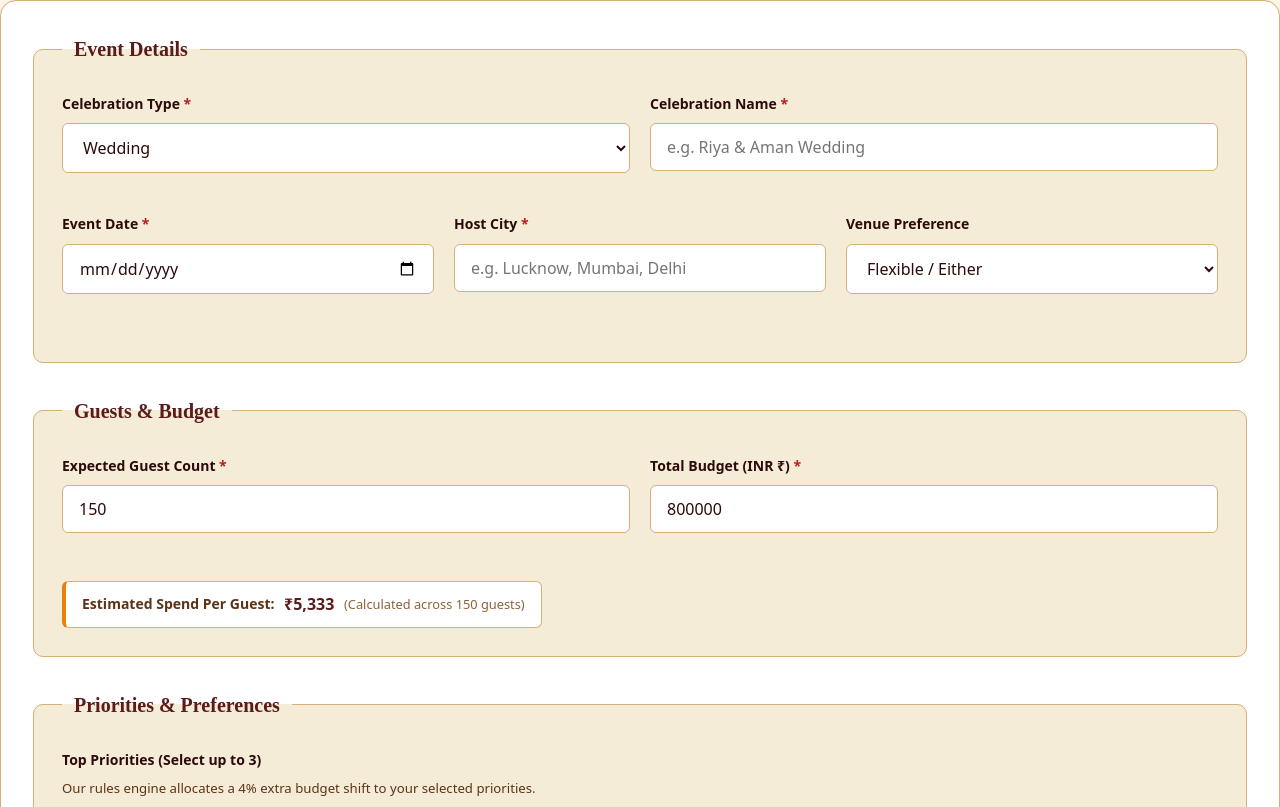
it: EventForm Component (EventForm.jsx) › shows error when event date is in the past
Type "2020-01-01" into the date field labelled "Event Date *" at [248, 269], box [62,244,434,294]
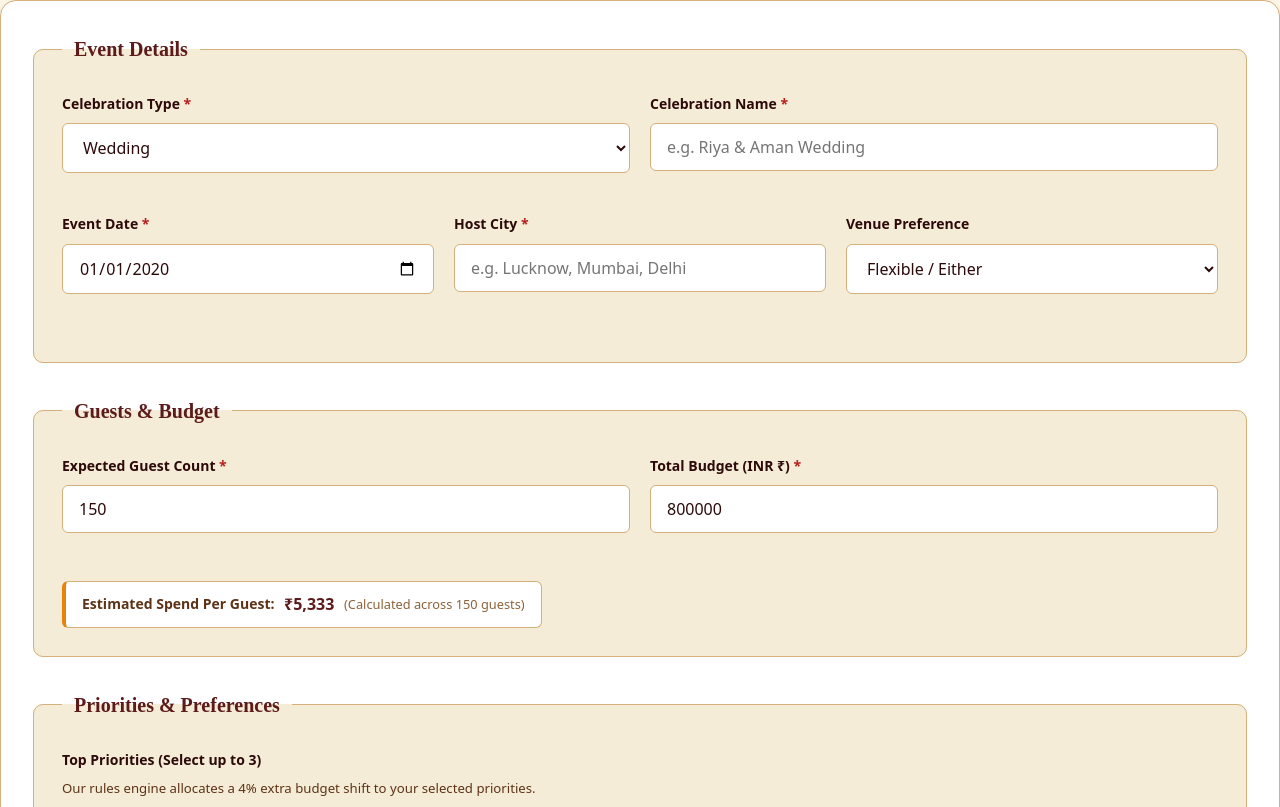
Leave the date field labelled "Event Date *", box [62,244,434,294]
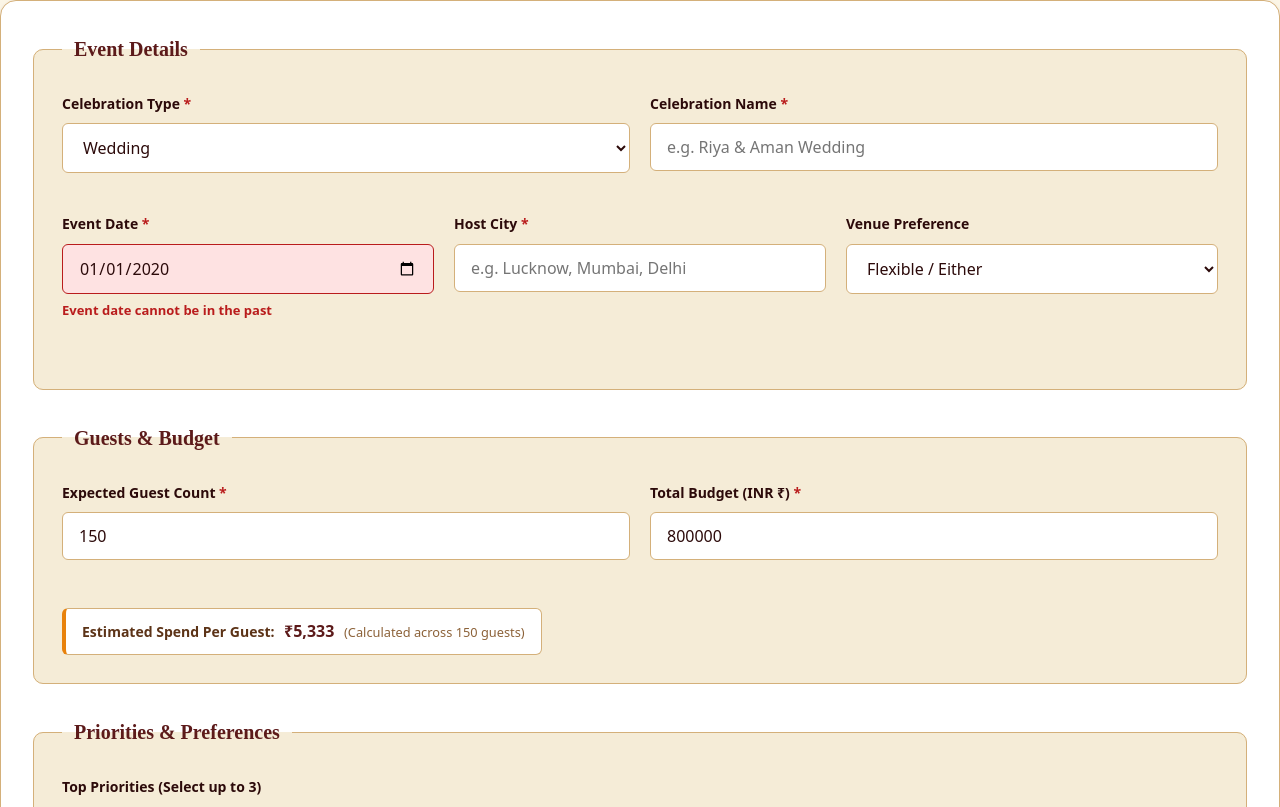
Expected: the text "Event date cannot be in the past" is shown, [62,301,272,319]
